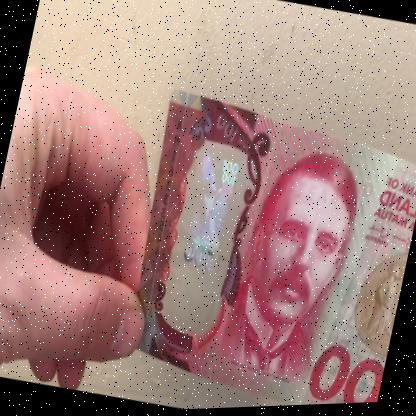100F: (166, 147, 244, 311)
